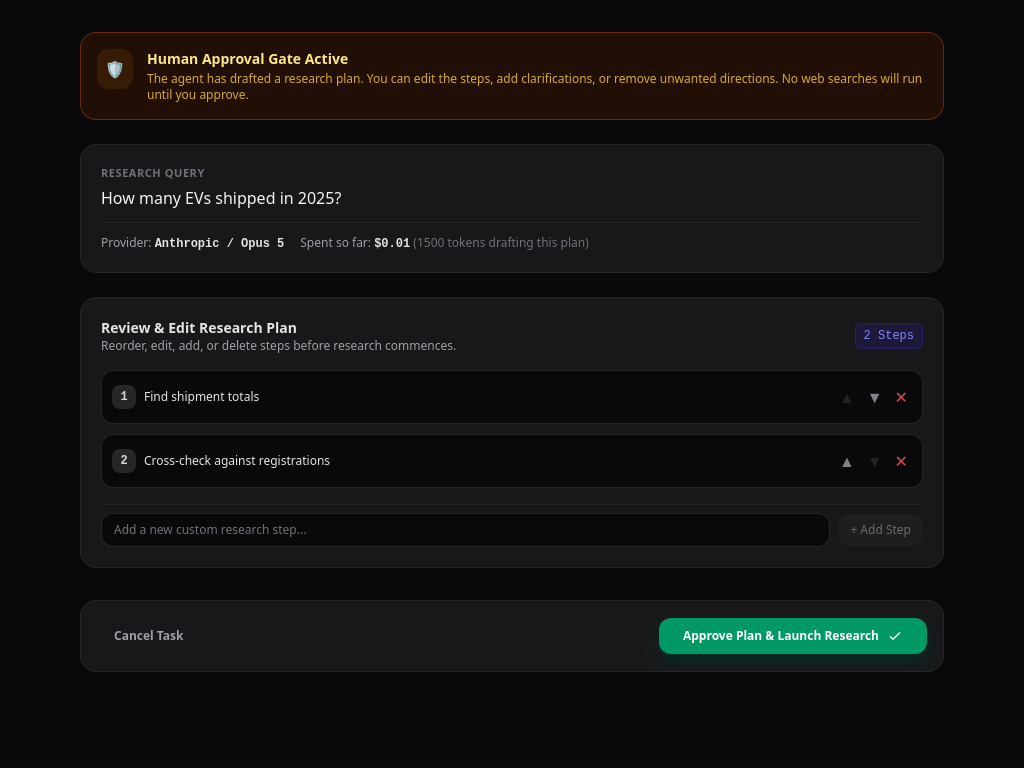
Test: PlanApprovalGate › adds a step and clears the composer
The image size is (1024, 768).
Type "Check manufacturer press releases" into the field with placeholder "Add a new custom research step..." at x=466, y=530, box x1=101 y1=512 x2=830 y2=546
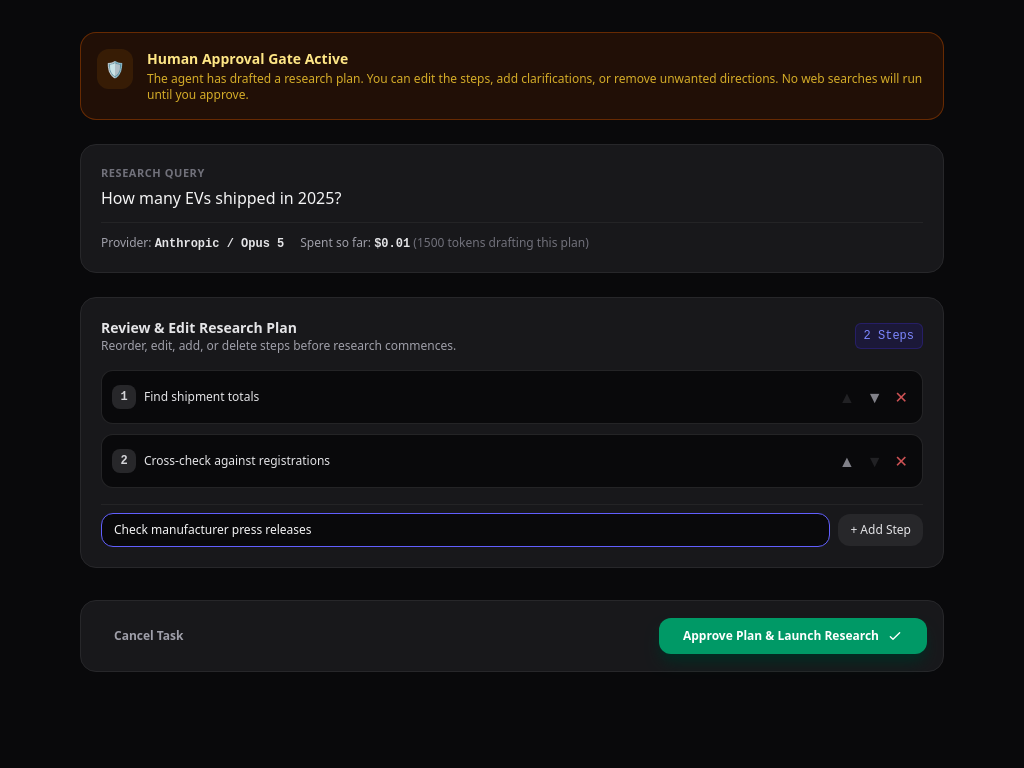
Click the button "+ Add Step" at x=881, y=530, box x1=838 y1=514 x2=923 y2=546
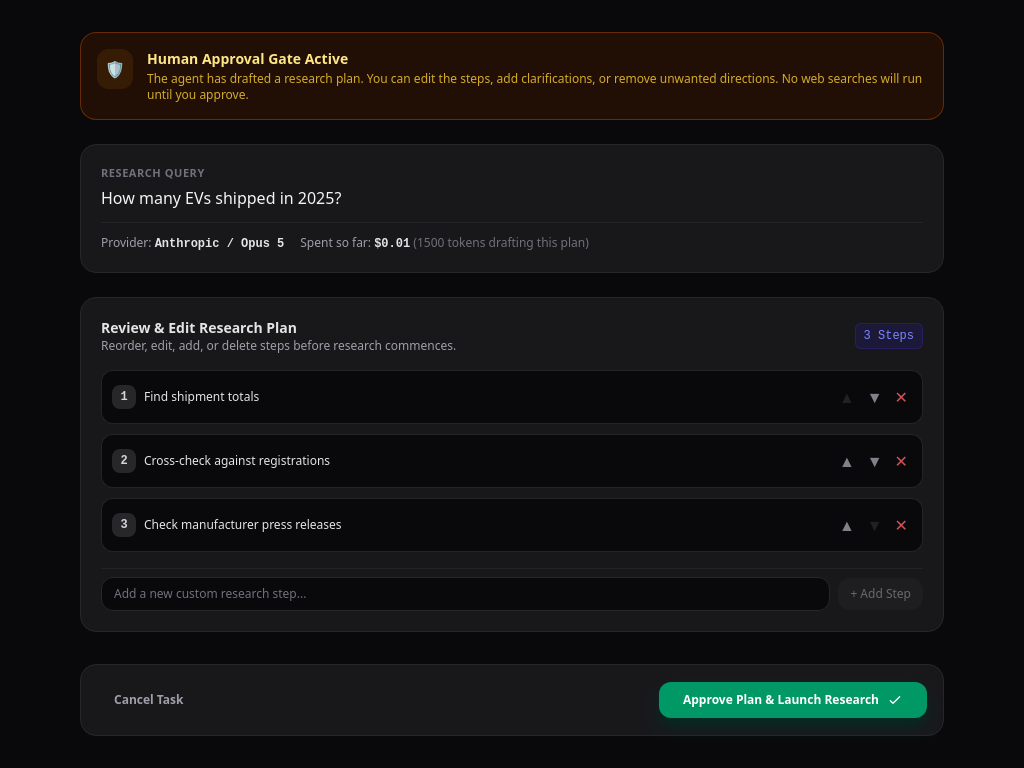
Check: the text "3 Steps" is shown, box x1=855 y1=322 x2=923 y2=348
Check: the field with placeholder "Add a new custom research step..." is empty, box x1=101 y1=576 x2=830 y2=610
